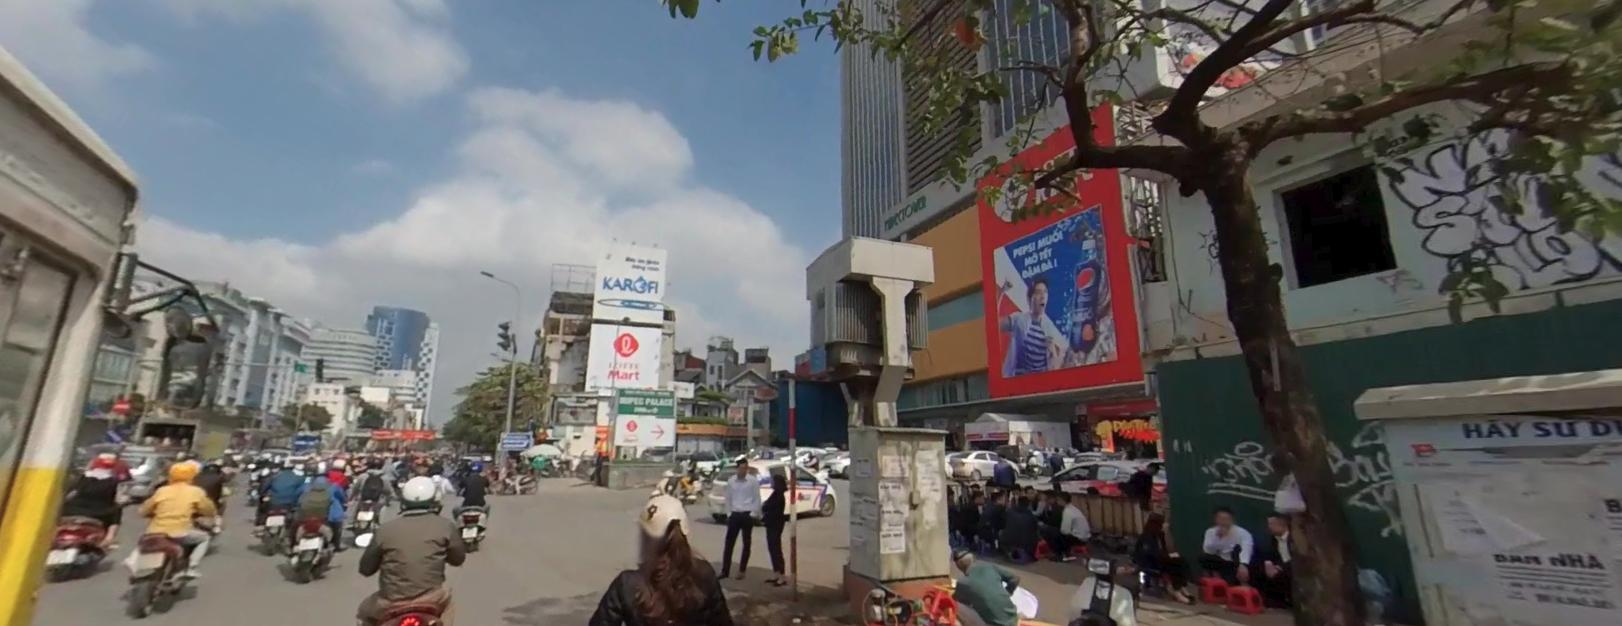Cam nguoc chieu: (110, 397, 129, 412)
Hieu lenh: (103, 426, 124, 442)
